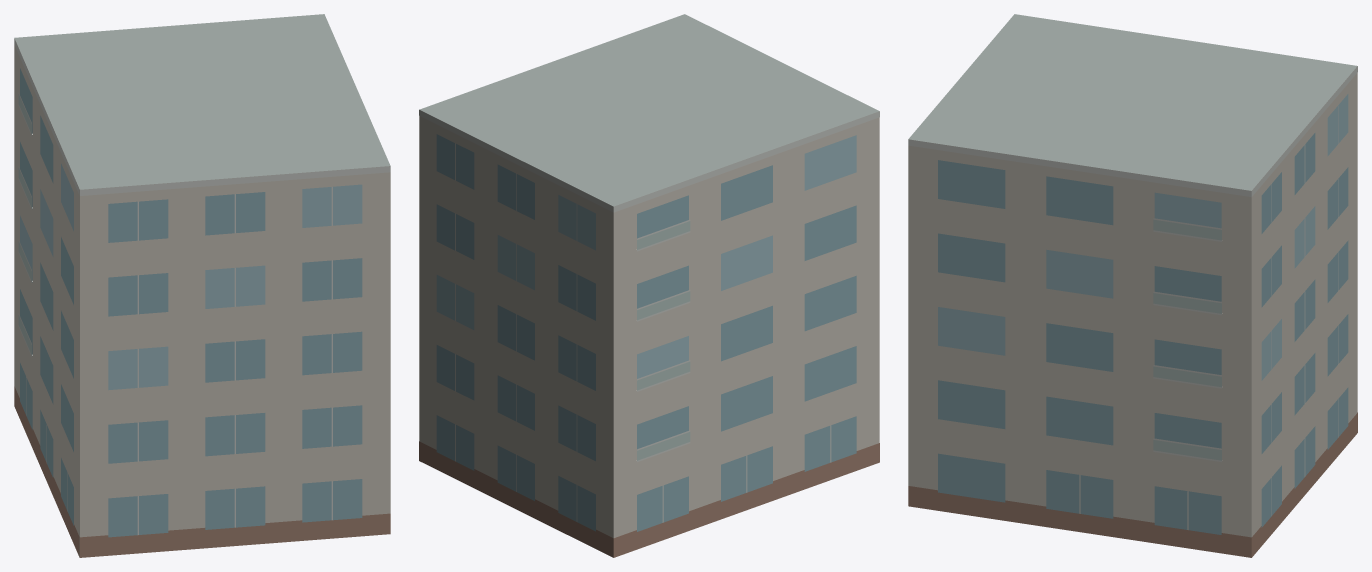
The model's file is survey-upis-33018088.glb.
The picture shows the model from 3 angles, left to right: view 1: azimuth 30°, elevation 25°; view 2: azimuth 150°, elevation 25°; view 3: azimuth 270°, elevation 25°; orthographic projection. The views are drawn at different scales.
Parts seen in each view (by area): view 1: survey-upis-33018088.tmp; view 2: survey-upis-33018088.tmp; view 3: survey-upis-33018088.tmp.
Boxes of the visible parts, <box> form: survey-upis-33018088.tmp: <box>14,14,390,557</box>; survey-upis-33018088.tmp: <box>419,14,879,557</box>; survey-upis-33018088.tmp: <box>908,14,1357,557</box>.
Bounding box in the file's own units: 14.69 × 14.2 × 15.78.
